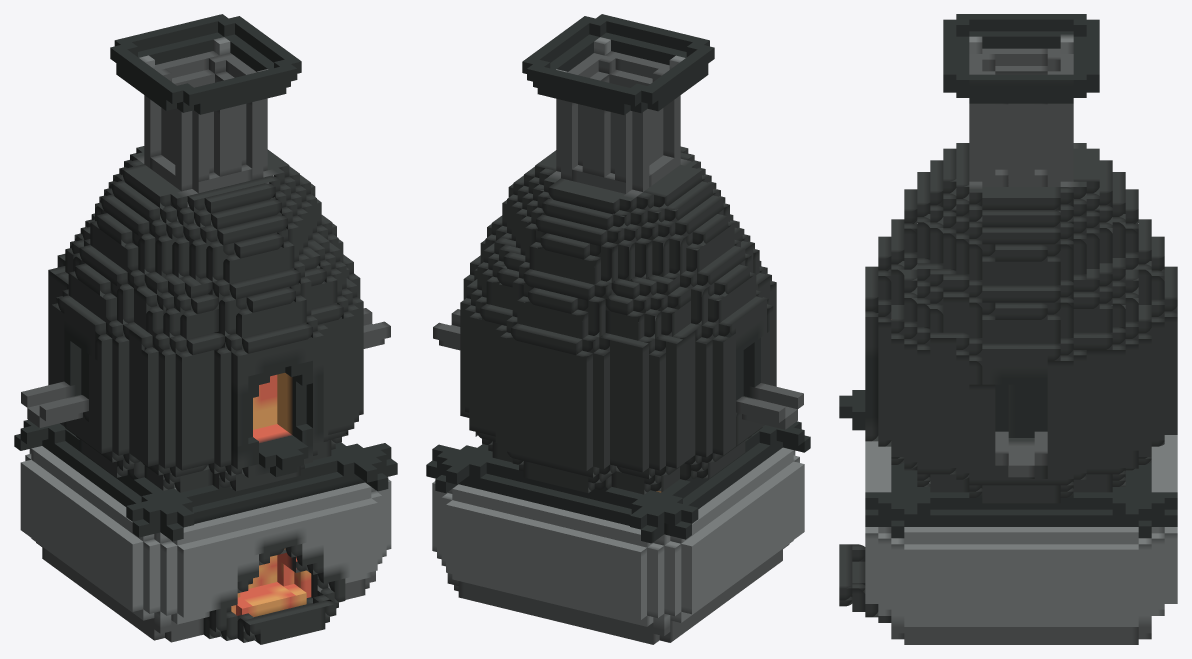
File: Smeltery3.obj
3 views of the same model, side by side, from view 1: azimuth 30°, elevation 25°; view 2: azimuth 150°, elevation 25°; view 3: azimuth 270°, elevation 25° (orthographic). The views are drawn at different scales.
Parts seen in each view (by area): view 1: Model; view 2: Model; view 3: Model.
Part boxes in pixels (x1,y1,x2,y2): Model: (14,14,397,644); Model: (426,14,810,644); Model: (839,14,1177,644).
Bounding box in the file's own units: 16 × 23 × 13.
1 material, 1 textured.
